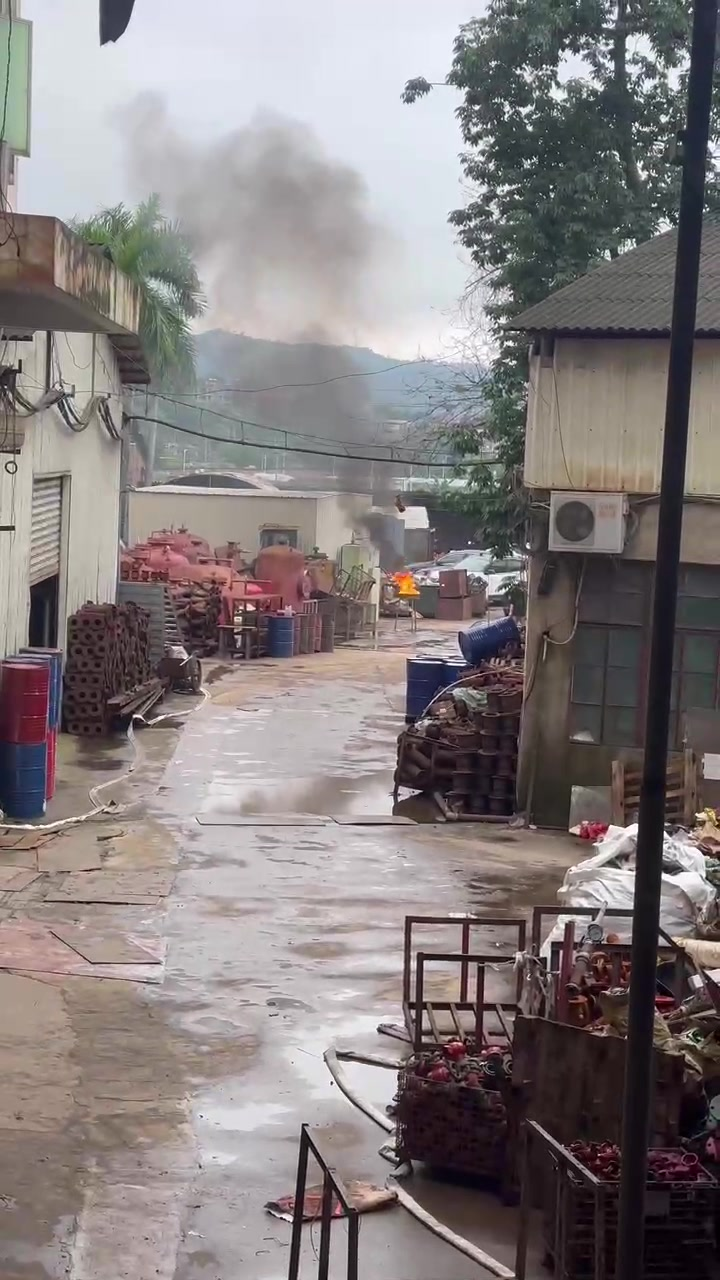fire: (388, 572, 419, 594)
